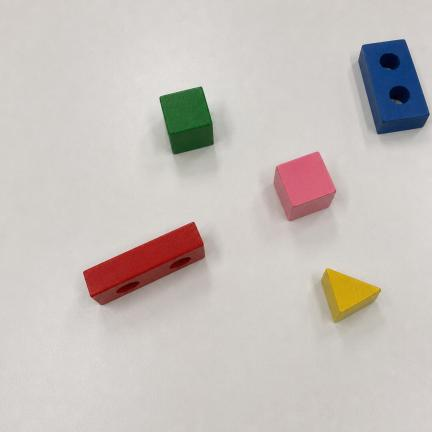BuildingBlocks: (84, 223, 205, 304), (359, 40, 429, 134), (274, 152, 336, 220), (160, 87, 213, 153), (322, 269, 380, 322)
